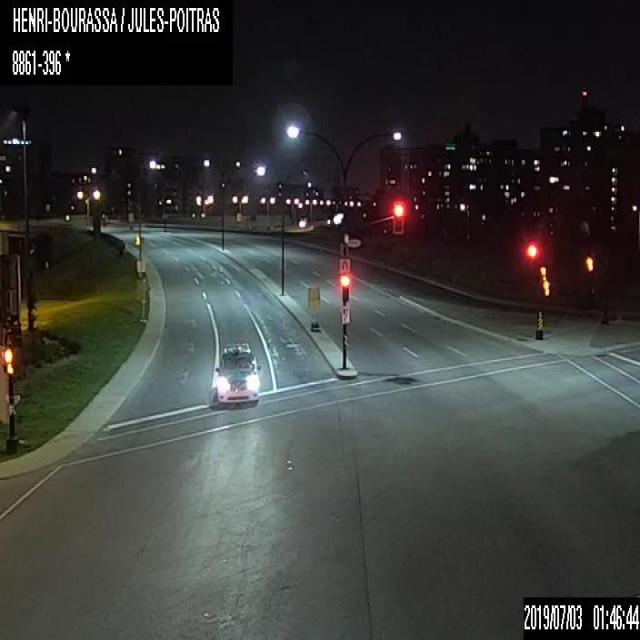vehicle: (214, 341, 260, 404)
